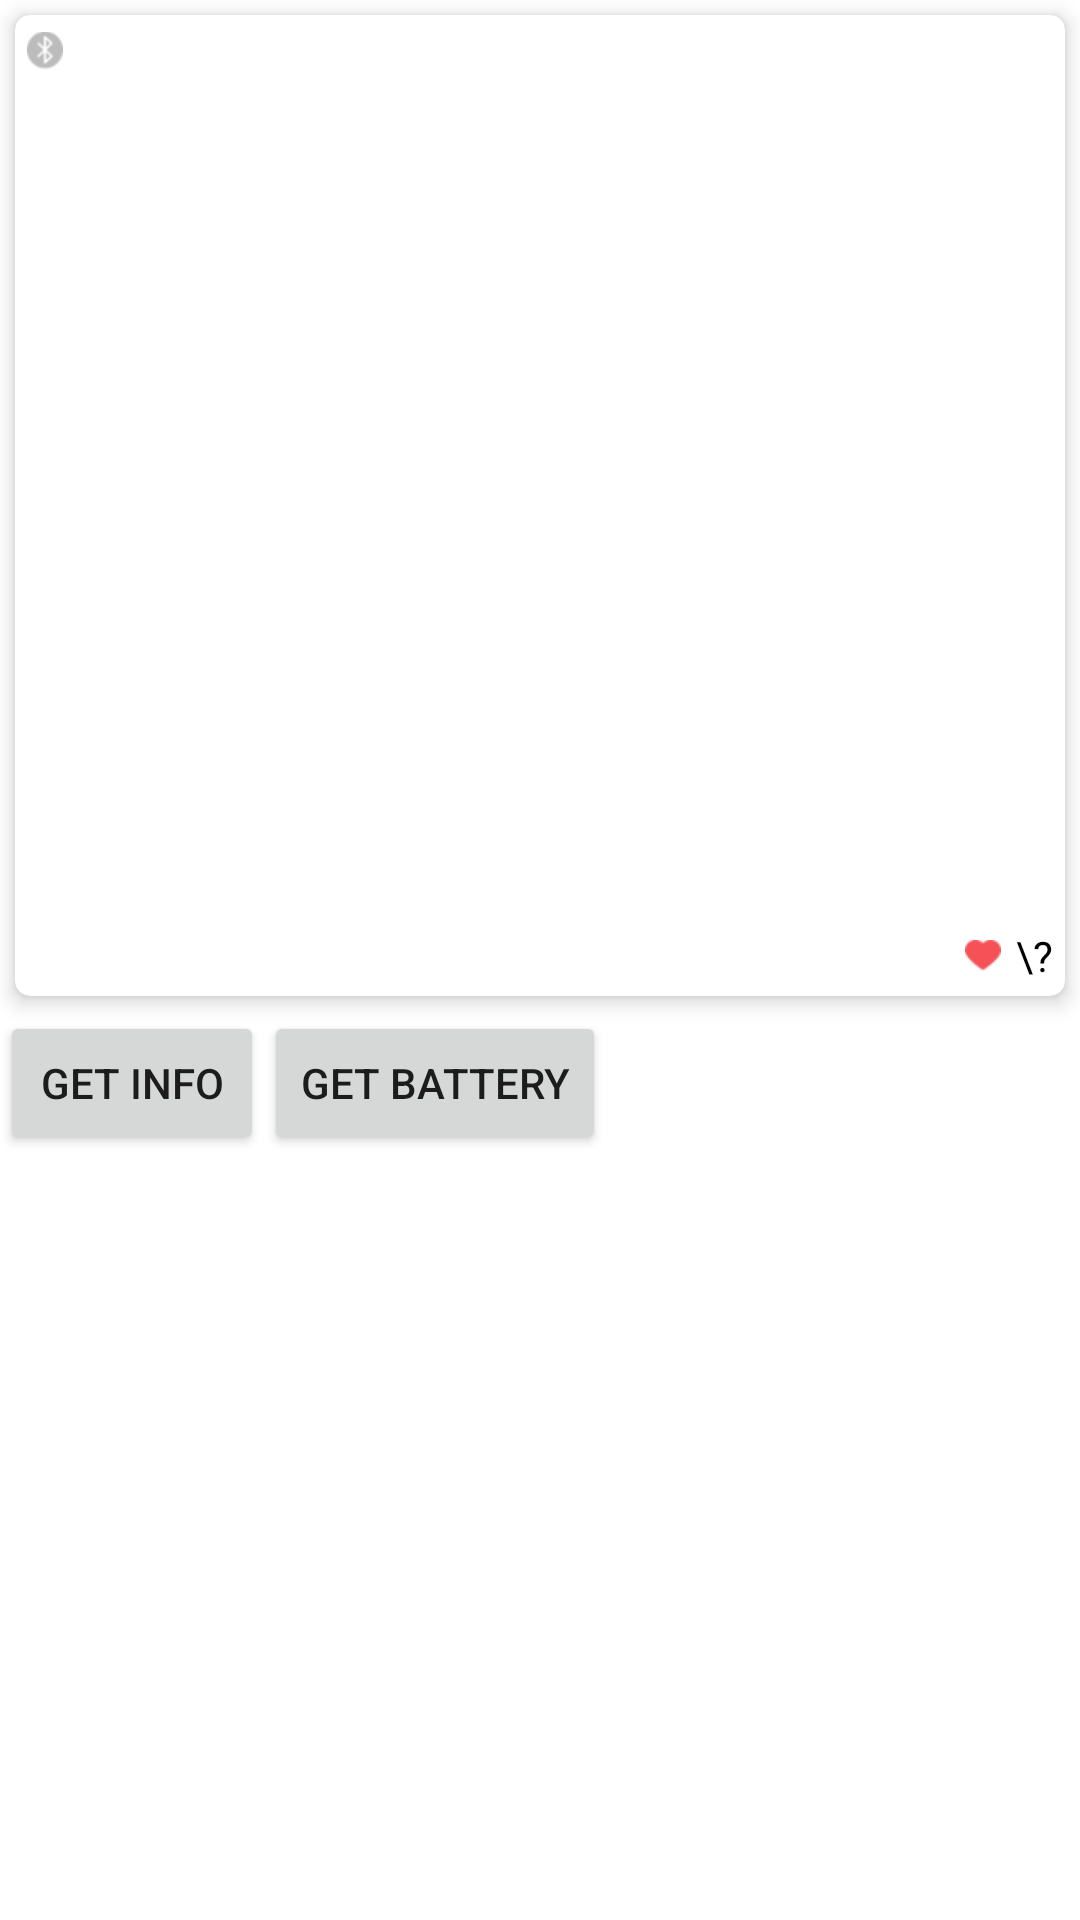

Where icons sit on this 1080x1920 app screen, as {"left": x1, "top": y1, "right": x2, "bottom": y2}:
heart: {"left": 965, "top": 940, "right": 1001, "bottom": 971}
